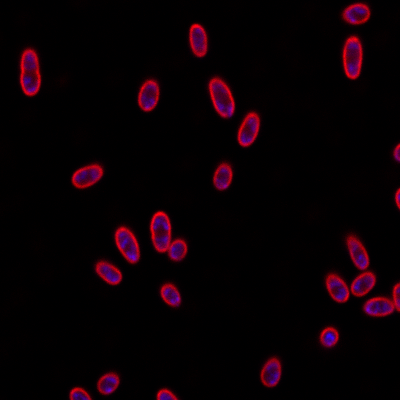MP265: (18, 47, 42, 97), (112, 225, 142, 265), (206, 77, 236, 116), (341, 35, 364, 81), (235, 111, 261, 149), (150, 209, 172, 253), (71, 163, 104, 191), (323, 270, 350, 304), (93, 258, 124, 286), (136, 77, 160, 113), (359, 296, 397, 318), (258, 354, 283, 387), (188, 21, 209, 57), (349, 270, 376, 297), (94, 371, 121, 395)
Oblique: (346, 234, 370, 271), (340, 1, 372, 26), (212, 161, 233, 191), (159, 282, 182, 306), (318, 326, 341, 349), (168, 237, 190, 261)
